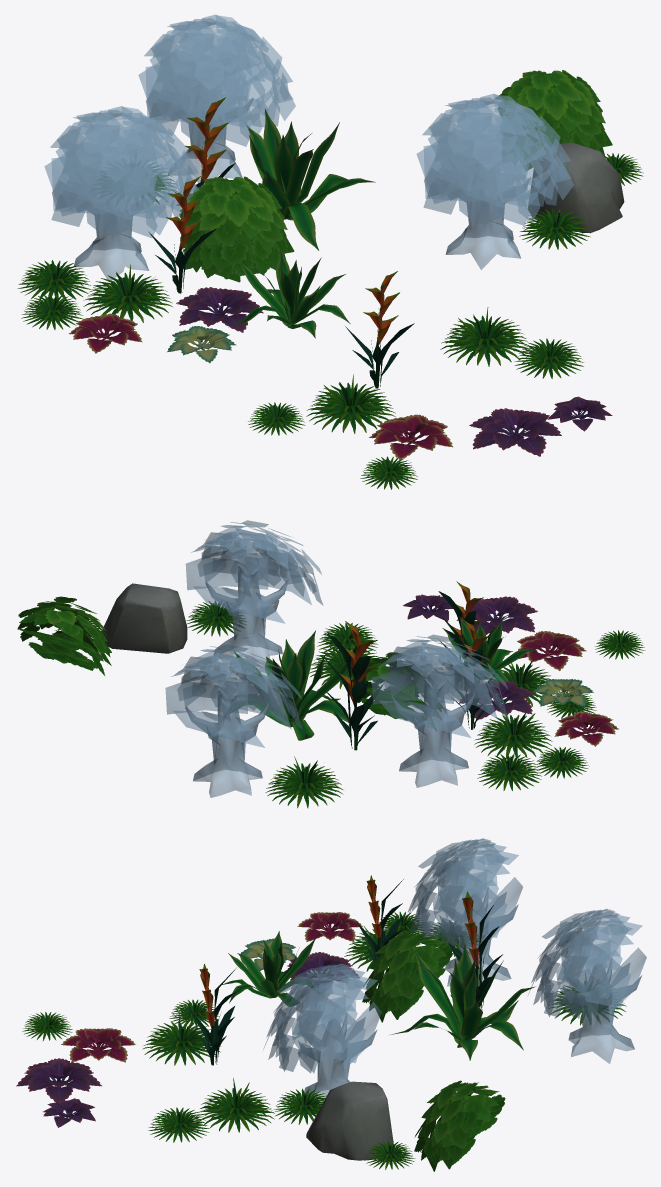
File: bushes.glb
3 renders of one model, top to bottom at view 1: azimuth 30°, elevation 25°; view 2: azimuth 150°, elevation 25°; view 3: azimuth 270°, elevation 25°, orthographic. The views are drawn at different scales.
Bounding box in the file's own units: 63.73 × 19.85 × 64.52.
Materials: 9 (8 with a texture image).
